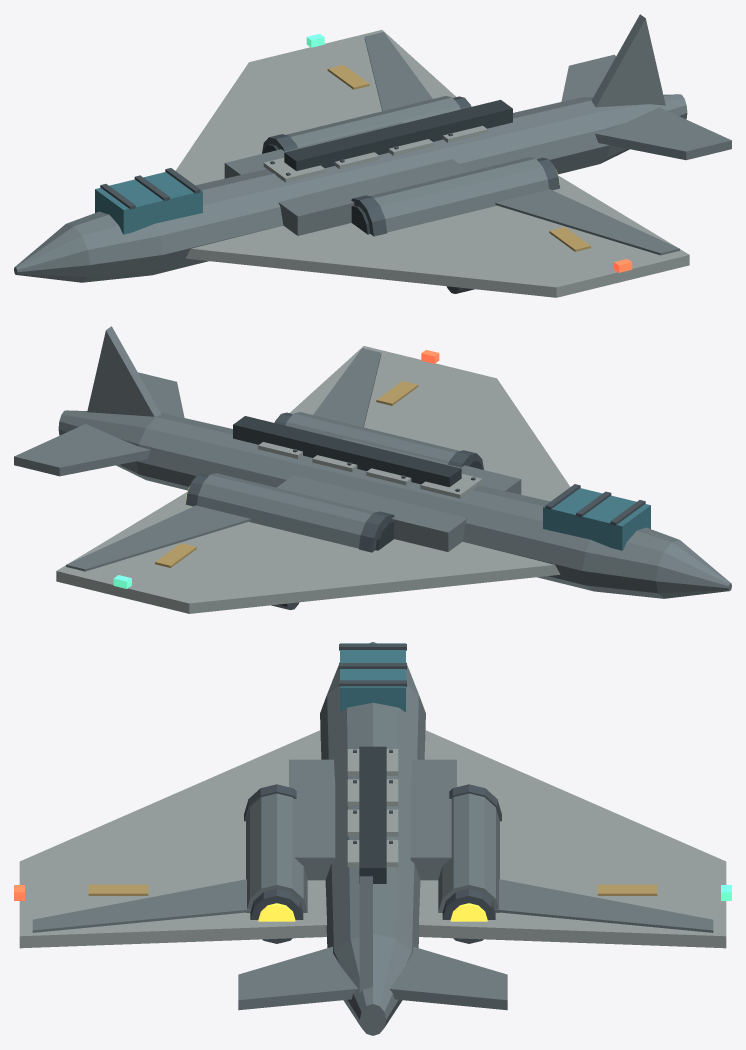
Rendered from hammer_bomber.glb.
3 views of the same model, one above another, from view 1: azimuth 30°, elevation 25°; view 2: azimuth 150°, elevation 25°; view 3: azimuth 270°, elevation 25° (orthographic). The views are drawn at different scales.
Visible parts, largest first — view 1: Pressure hull, Port wing, Starboard wing, Engine nacelle, Dorsal mission spine, Wing root fairing, Tailplane, Canopy, Elevon, Vertical stabilizer, Elevon.001, Engine nacelle.001 (+6 smaller); view 2: Pressure hull, Starboard wing, Port wing, Engine nacelle.001, Dorsal mission spine, Wing root fairing.001, Tailplane.001, Canopy, Elevon.001, Vertical stabilizer, Elevon, Engine nacelle (+6 smaller); view 3: Port wing, Starboard wing, Pressure hull, Engine nacelle, Engine nacelle.001, Elevon, Elevon.001, Tailplane, Tailplane.001, Wing root fairing, Wing root fairing.001, Dorsal mission spine (+10 smaller).
Boxes of the visible parts, x1,y1,x2,y2 form: Pressure hull: (14, 94, 687, 282); Port wing: (185, 176, 689, 297); Starboard wing: (175, 30, 455, 185); Engine nacelle: (369, 157, 548, 232); Dorsal mission spine: (284, 99, 512, 170); Wing root fairing: (278, 159, 468, 235); Tailplane: (595, 107, 731, 160); Canopy: (95, 172, 202, 234); Elevon: (495, 189, 679, 255); Vertical stabilizer: (591, 14, 665, 107); Elevon.001: (364, 32, 432, 111); Engine nacelle.001: (286, 96, 460, 147); Pressure hull: (58, 410, 731, 598); Starboard wing: (56, 492, 560, 613); Port wing: (289, 346, 570, 501); Engine nacelle.001: (197, 473, 375, 548); Dorsal mission spine: (233, 416, 461, 487); Wing root fairing.001: (276, 475, 467, 551); Tailplane.001: (14, 424, 150, 476); Canopy: (543, 488, 650, 550); Elevon.001: (66, 505, 250, 571); Vertical stabilizer: (87, 326, 161, 416); Elevon: (313, 348, 381, 427); Engine nacelle: (285, 412, 459, 463); Port wing: (19, 730, 326, 948); Starboard wing: (419, 730, 726, 948); Pressure hull: (320, 642, 425, 1035); Engine nacelle: (246, 793, 307, 912); Engine nacelle.001: (438, 793, 499, 912); Elevon: (32, 879, 251, 932); Elevon.001: (494, 879, 713, 932); Tailplane: (238, 946, 357, 1010); Tailplane.001: (390, 946, 507, 1010); Wing root fairing: (289, 759, 335, 880); Wing root fairing.001: (410, 759, 456, 880); Dorsal mission spine: (359, 746, 386, 883).
Size of the model in its own units: 8 by 1.57 by 6.5.
